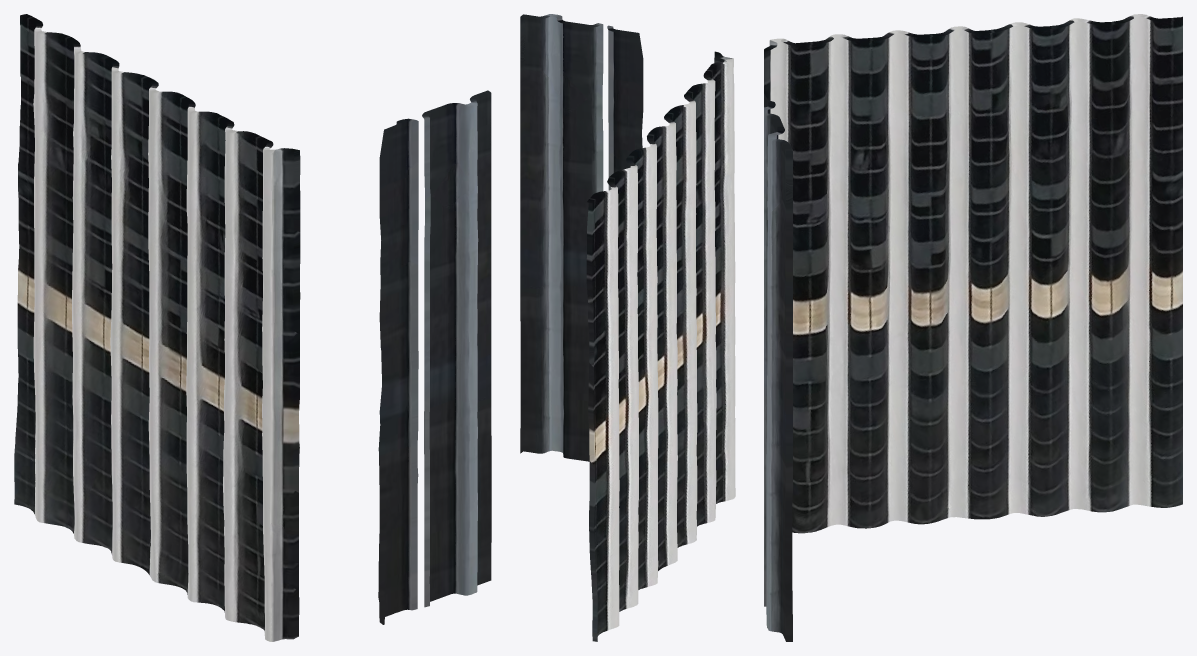
The model's file is z20-167780-405229-h1-yup-uvflip-v3-world.glb.
3 renders of one model, left to right at view 1: azimuth 30°, elevation 25°; view 2: azimuth 150°, elevation 25°; view 3: azimuth 270°, elevation 25°, orthographic. The views are drawn at different scales.
Size of the model in its own units: 23.6 by 39.8 by 30.32.
1 material, 1 textured.
